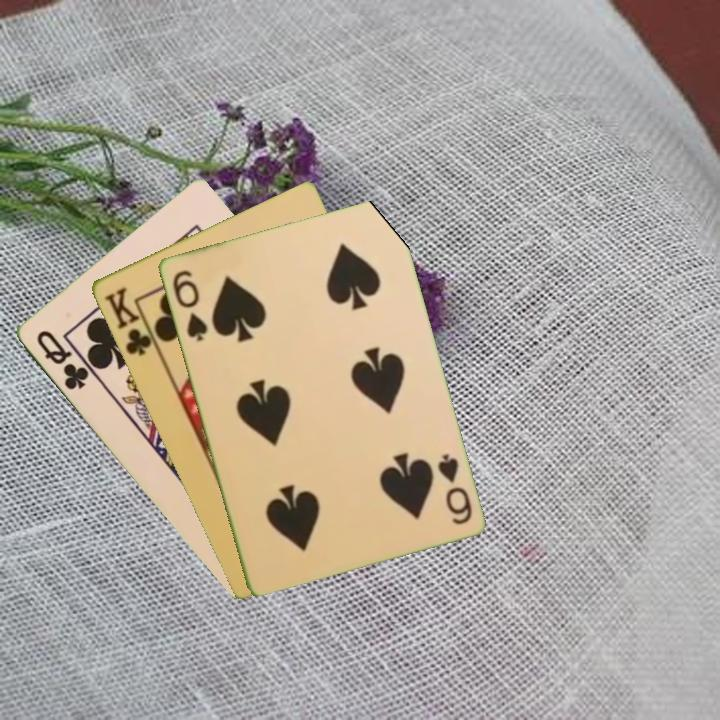6s: (168, 266, 210, 344), (433, 449, 475, 527)
Kc: (100, 283, 161, 359)
Qc: (32, 326, 92, 393)
